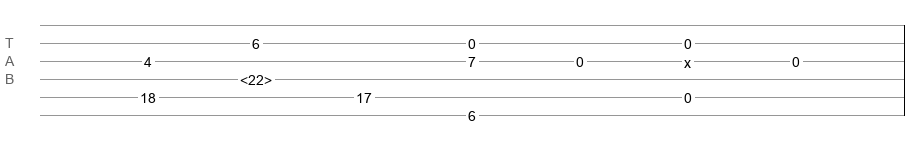0: (468, 36, 476, 46), (576, 54, 584, 64), (684, 90, 692, 100), (684, 36, 692, 46), (792, 54, 800, 64)
17: (356, 90, 372, 100)
18: (140, 90, 156, 100)
4: (144, 54, 152, 64)
6: (252, 36, 260, 46), (468, 108, 476, 118)
7: (468, 54, 476, 64)
harmonic: (240, 72, 272, 82)
x: (684, 55, 691, 63)
